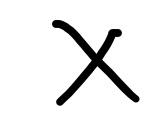mult: (52, 20, 140, 106)
